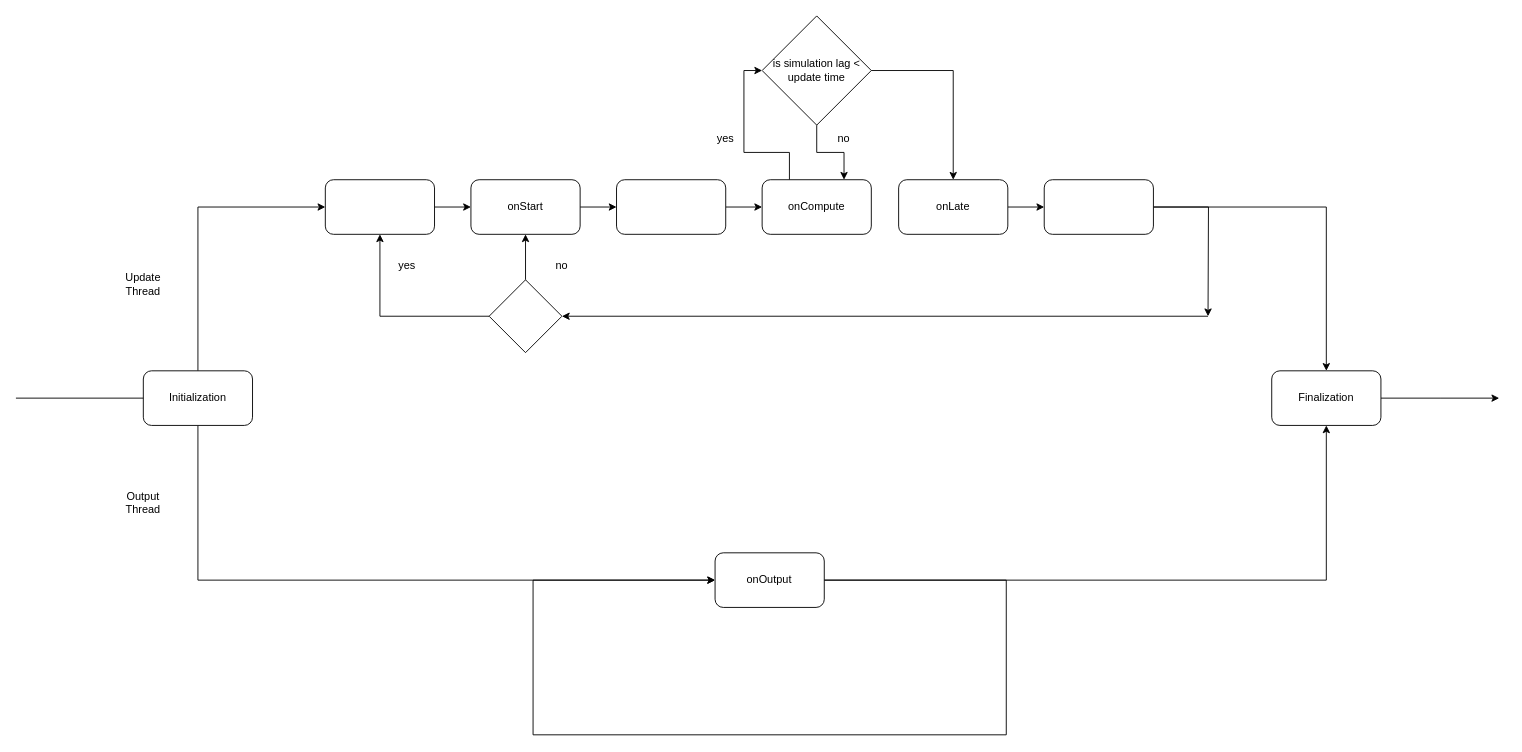
The diagram is 1522 pixels wide and 752 high, and some of its shapes have lost their labels. The centre of each missing label's shape, as x and y in pixels:
has input changed?: point 525,316
onFinish: point 1098,206
onInput: point 379,206
onLogic: point 671,206
